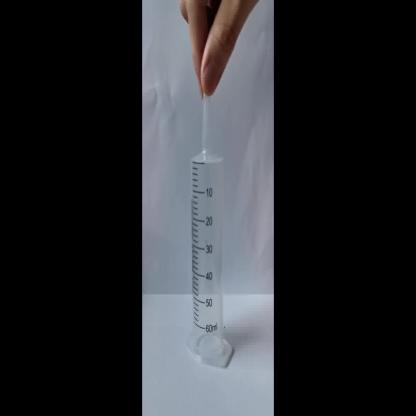dry: (186, 102, 236, 374)
